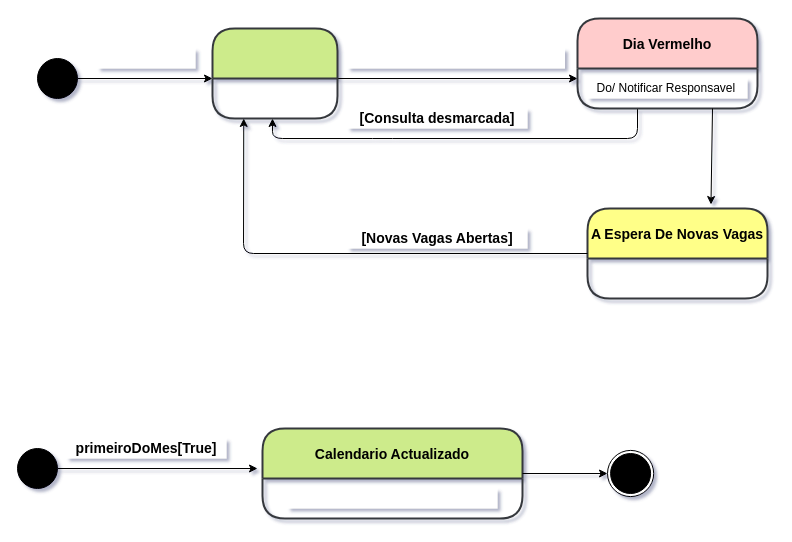
Some shapes in this 792 by 542 pixel diagram are drawn without their labels. The shapes that lost their labels are listed below. From the top down, each one's centre as x and y in pixels, then its label:
At point 146,58: "Vaga Aberta".
At point 274,73: "Dia Verde".
At point 455,58: "vagaMedicoEspecialidade[false]".
At point 392,498: "Entry/ Abrir vagas do mes seguente".
